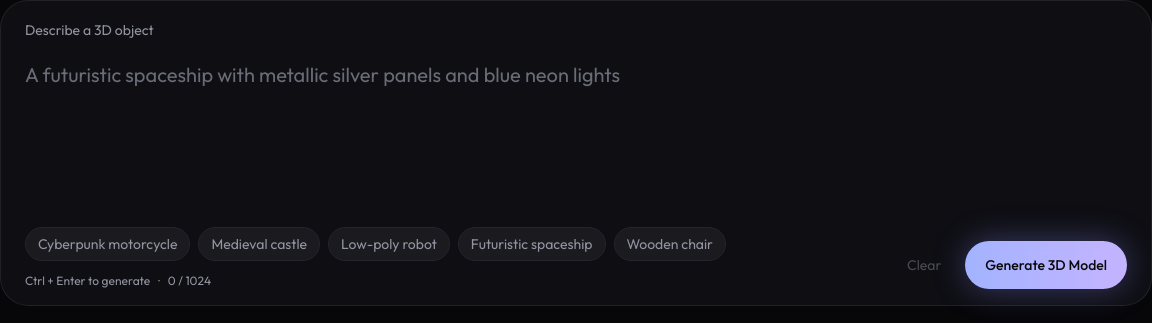
Test: PromptComposer › fills the prompt from an example
Click the button "Wooden chair": point(670, 244) [614,227,726,261]
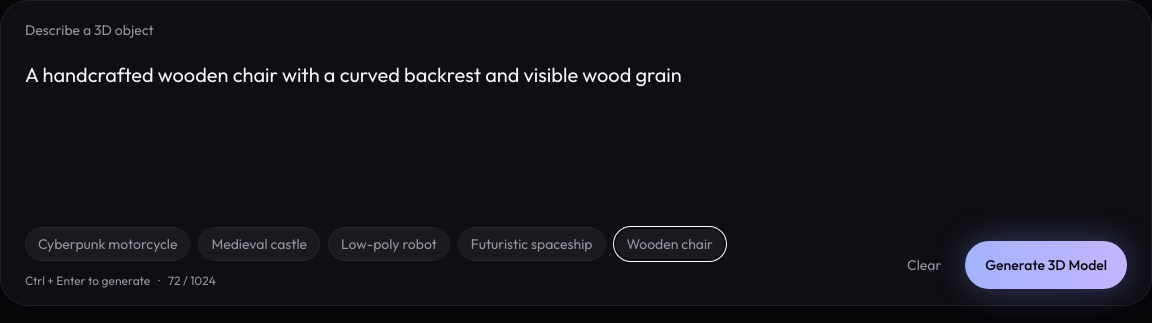
Expected: the text box labelled "Describe a 3D object" holds "A handcrafted wooden chair with a curved backrest and visible wood grain", [17,49,1135,213]
